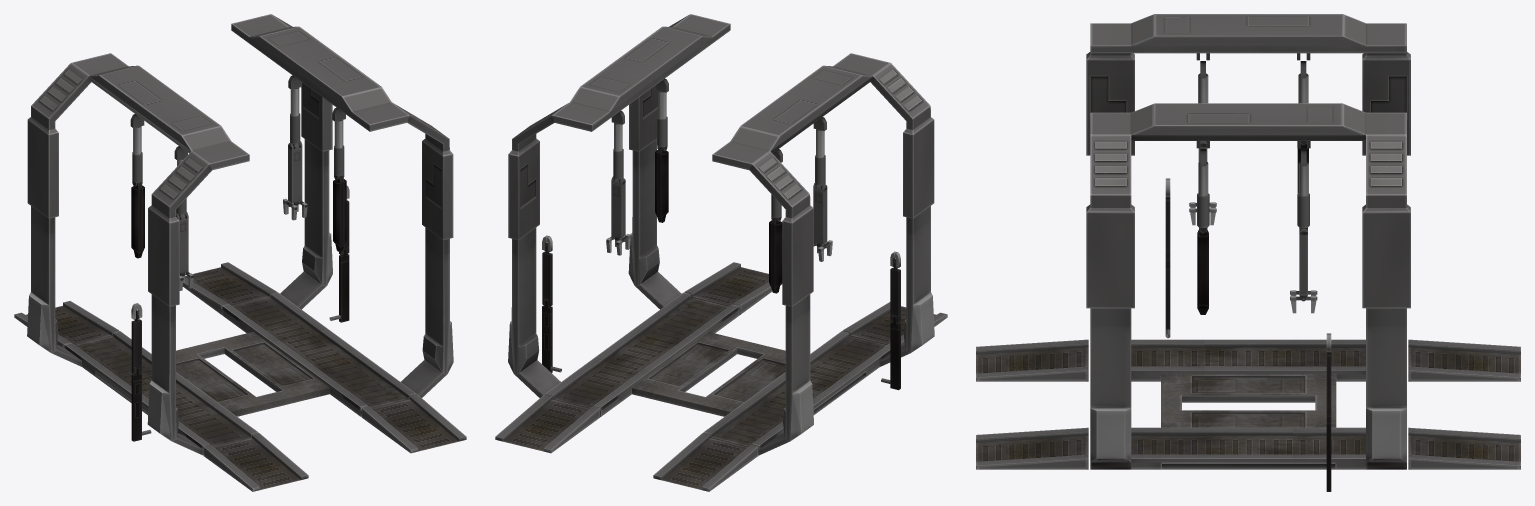
The model's file is Mechbay exp.FBX.
3 views of the same model, side by side, from view 1: azimuth 30°, elevation 25°; view 2: azimuth 150°, elevation 25°; view 3: azimuth 270°, elevation 25° (orthographic). The views are drawn at different scales.
Parts seen in each view (by area): view 1: supportlupper, supportrupper, rampr, supportrlower, supportllower, rampl, base, ramprfoldrear, ramplfoldrear, ramprfoldfront, ramplfoldfront, supportltorchlower (+6 smaller); view 2: supportlupper, supportrupper, rampr, rampl, supportllower, supportrlower, base, ramprfoldfront, ramplfoldfront, ramprfoldrear, ramplfoldrear, supportltorchlower (+7 smaller); view 3: supportrupper, supportlupper, supportrlower, rampr, rampl, base, ramplfoldfront, ramplfoldrear, ramprfoldrear, ramprfoldfront, supportrtorchlower, supportrhandlower.
Part boxes in pixels (box(x1,y1,x2,y2)): supportlupper: box(27, 53, 249, 306); supportrupper: box(231, 14, 453, 240); rampr: box(222, 271, 447, 416); supportrlower: box(302, 139, 453, 373); supportllower: box(27, 206, 178, 441); rampl: box(51, 331, 258, 455); base: box(176, 332, 329, 416); ramprfoldrear: box(361, 394, 466, 453); ramplfoldrear: box(203, 433, 308, 491); ramprfoldfront: box(183, 262, 277, 314); ramplfoldfront: box(14, 301, 119, 347); supportltorchlower: box(131, 182, 144, 258); supportlupper: box(712, 53, 934, 306); supportrupper: box(508, 14, 730, 240); rampr: box(514, 272, 739, 416); rampl: box(703, 331, 910, 455); supportllower: box(783, 206, 934, 441); supportrlower: box(508, 139, 659, 373); base: box(632, 332, 785, 416); ramprfoldfront: box(495, 394, 600, 453); ramplfoldfront: box(653, 433, 758, 491); ramprfoldrear: box(684, 262, 782, 314); ramplfoldrear: box(842, 302, 947, 345); supportltorchlower: box(769, 217, 782, 293); supportrupper: box(1086, 103, 1410, 308); supportlupper: box(1086, 14, 1410, 155); supportrlower: box(1090, 308, 1406, 462); rampr: box(1090, 427, 1406, 469); rampl: box(1131, 339, 1365, 381); base: box(1161, 374, 1336, 427); ramplfoldfront: box(1408, 339, 1520, 381); ramplfoldrear: box(976, 339, 1088, 381); ramprfoldrear: box(976, 427, 1088, 469); ramprfoldfront: box(1408, 427, 1520, 469); supportrtorchlower: box(1197, 229, 1208, 314); supportrhandlower: box(1299, 228, 1307, 296).
Bounding box in the file's own units: 81.58 × 79.47 × 115.
1 material, 1 textured.
